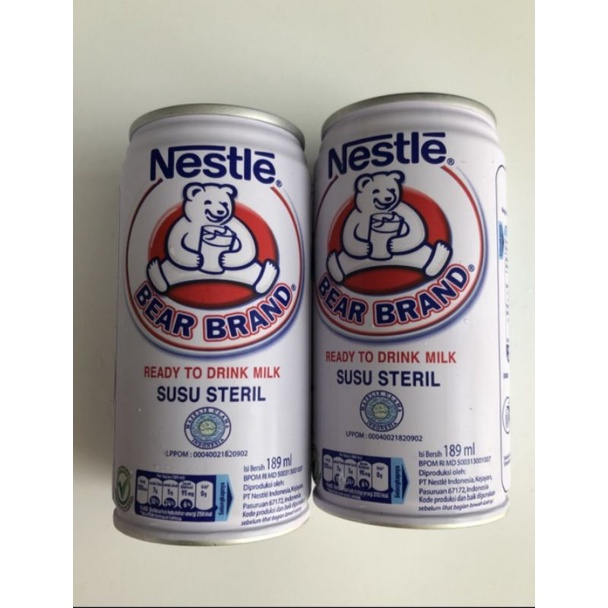Bear Brand Susu Steril (189ml): (100, 100, 316, 544), (325, 88, 507, 535)
